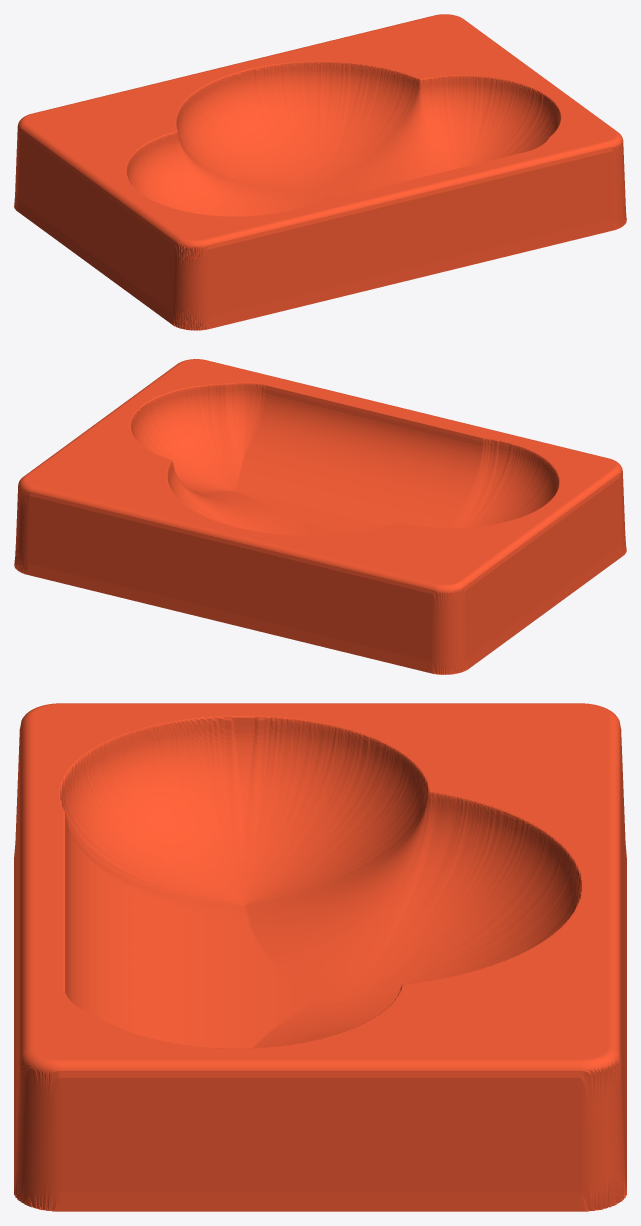
Rendered from mold.glb.
3 renders of one model, top to bottom at view 1: azimuth 30°, elevation 25°; view 2: azimuth 150°, elevation 25°; view 3: azimuth 270°, elevation 25°, orthographic. The views are drawn at different scales.
Visible parts, largest first — view 1: geometry_0; view 2: geometry_0; view 3: geometry_0.
Boxes of the visible parts, <box> form: geometry_0: <box>14,14,626,330</box>; geometry_0: <box>14,359,626,674</box>; geometry_0: <box>14,703,626,1211</box>.
Bounding box in the file's own units: 0.1709 × 0.031 × 0.1194.
